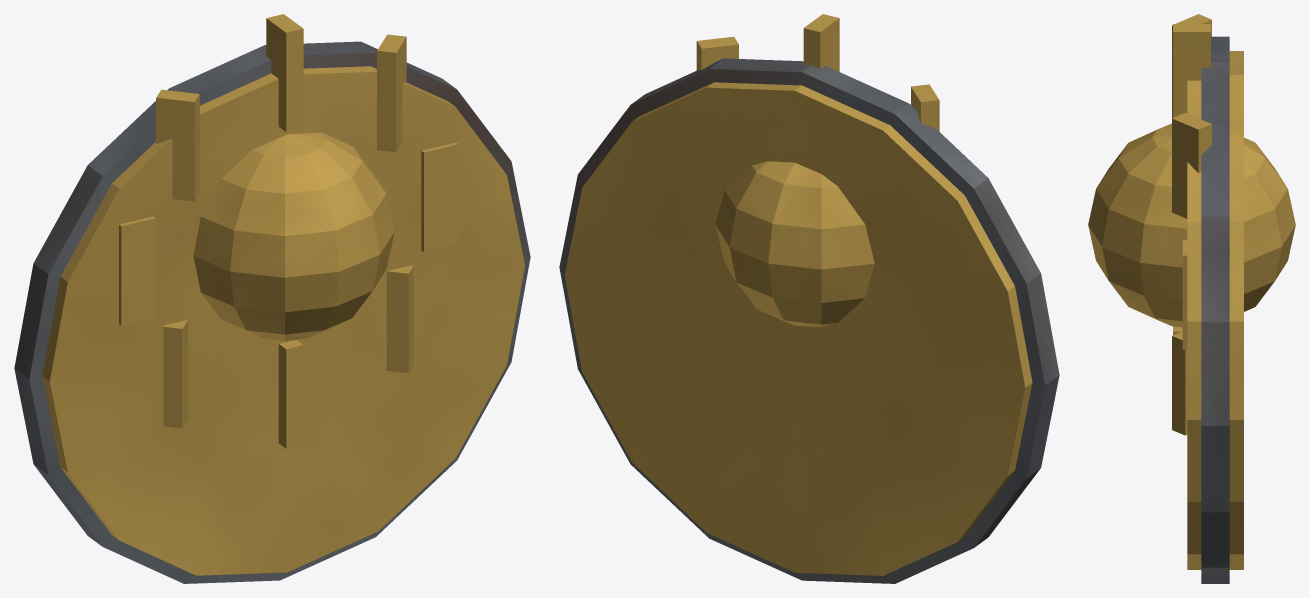
The model's file is crest_rising_sun.fbx.
3 views of the same model, side by side, from view 1: azimuth 30°, elevation 25°; view 2: azimuth 150°, elevation 25°; view 3: azimuth 270°, elevation 25° (orthographic). The views are drawn at different scales.
Parts seen in each view (by area): view 1: crest_rising_sun; view 2: crest_rising_sun; view 3: crest_rising_sun.
Boxes of the visible parts, box(x1,y1,x2,y2) form: crest_rising_sun: box(14, 14, 530, 583); crest_rising_sun: box(559, 14, 1059, 583); crest_rising_sun: box(1088, 14, 1295, 583).
Bounding box in the file's own units: 1.16 × 1.24 × 0.44.
